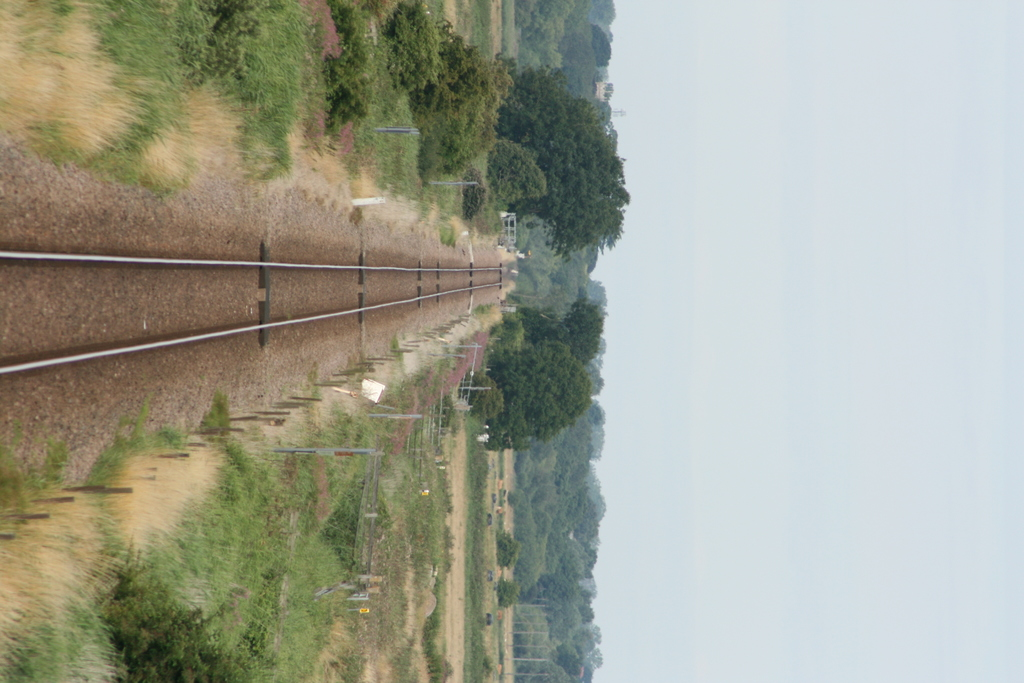Tree: (472, 46, 636, 282), (423, 24, 513, 180), (490, 338, 597, 461), (311, 0, 370, 136), (380, 0, 444, 95), (519, 297, 599, 365), (487, 139, 551, 206)
